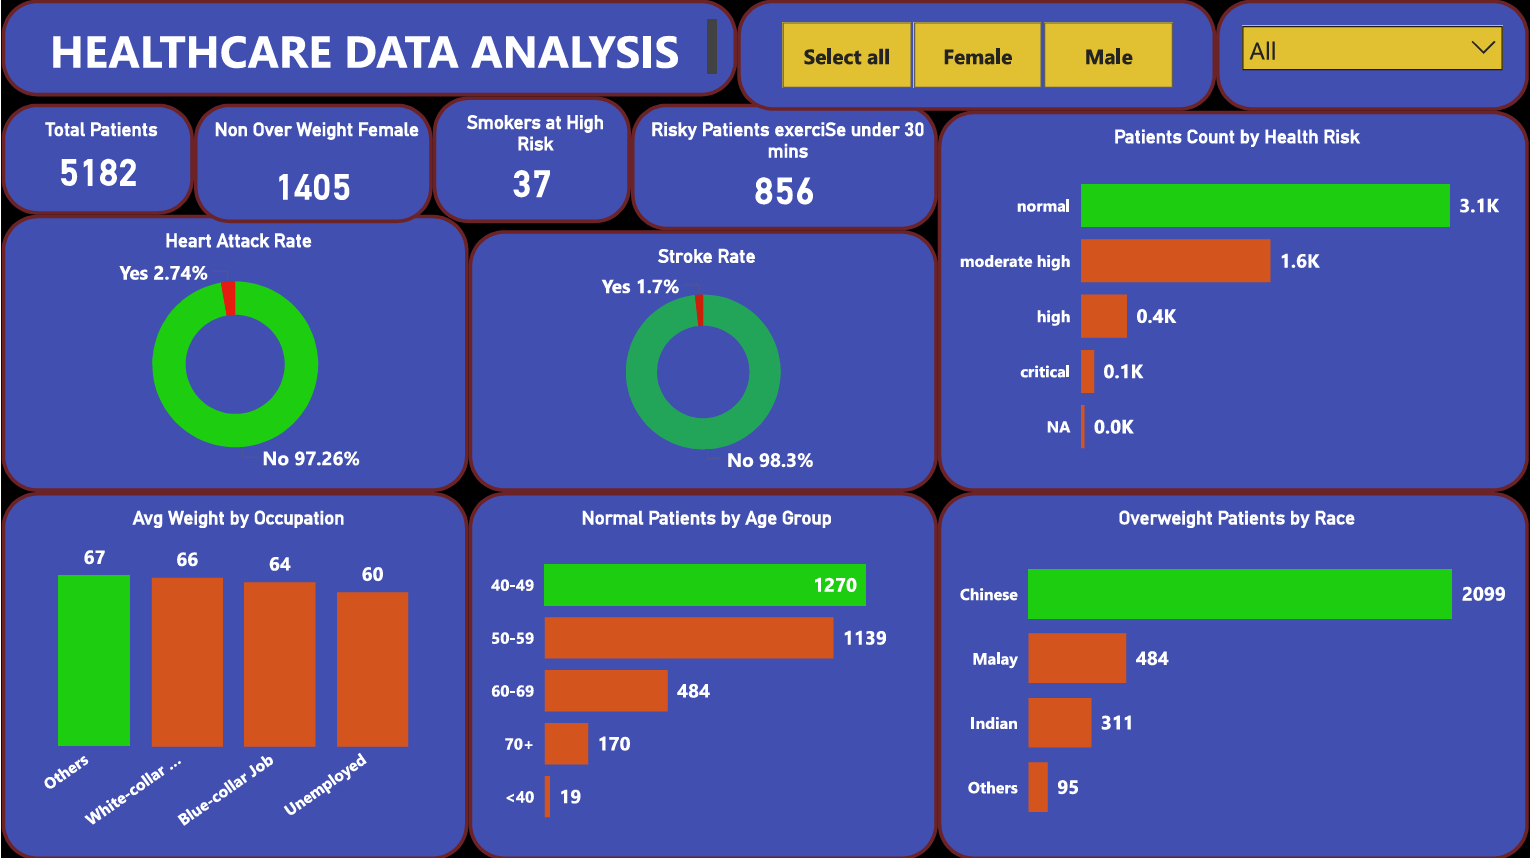

The page's visual inventory and layout, read from the dashboard file:
{"tool":"powerbi","page":{"name":"Page 1","canvas":[1280,720],"ordinal":0},"visuals":[{"type":"card","title":"Total Patients","fields":{"Values":["CountNonNull(Patient_History_data xlsx - Sample_Data.AgeGrp)"]},"box":[0,86.9,160.6,92.6],"z":0},{"type":"donutChart","title":"Heart Attack  Rate","fields":{"Category":["Patient_History_data xlsx - Sample_Data.HeartAttack"],"Y":["CountNonNull(Patient_History_data xlsx - Sample_Data.HeartAttack)"]},"box":[0,179.5,391.2,232.4],"z":1000},{"type":"donutChart","title":"Stroke Rate","fields":{"Y":["CountNonNull(Patient_History_data xlsx - Sample_Data.Stroke)"],"Category":["Patient_History_data xlsx - Sample_Data.Stroke"]},"box":[391.2,192.8,393.1,219.2],"z":2000},{"type":"card","title":"Non Over Weight Female ","fields":{"Values":["CountNonNull(Patient_History_data xlsx - Sample_Data.Overweight)"]},"box":[160.6,86.9,200.3,100.2],"z":3000},{"type":"barChart","title":"Patients Count by  Health Risk ","fields":{"Category":["Patient_History_data xlsx - Sample_Data.healthRisk"],"Y":["CountNonNull(Patient_History_data xlsx - Sample_Data.healthRisk)"]},"box":[784.3,92.6,495.1,319.4],"z":4000},{"type":"columnChart","title":"Avg Weight by Occupation","fields":{"Y":["Avg(Patient_History_data xlsx - Sample_Data.Weight)"],"Category":["Patient_History_data xlsx - Sample_Data.OccupationType"]},"box":[0,412,391.2,308],"z":5000},{"type":"barChart","title":"Overweight Patients by Race","fields":{"Category":["Patient_History_data xlsx - Sample_Data.Race"],"Y":["CountNonNull(Patient_History_data xlsx - Sample_Data.Overweight)"]},"box":[784.3,412,495.1,308],"z":6000},{"type":"barChart","title":"Normal Patients by Age Group","fields":{"Category":["Patient_History_data xlsx - Sample_Data.AgeGrp"],"Y":["CountNonNull(Patient_History_data xlsx - Sample_Data.healthRisk)"]},"box":[391.2,412,393.1,308],"z":7000},{"type":"card","title":"Smokers at High Risk","fields":{"Values":["CountNonNull(Patient_History_data xlsx - Sample_Data.healthRisk)"]},"box":[360.9,81.3,166.3,105.8],"z":8000},{"type":"card","title":"Risky Patients exerciSe under 30 mins","fields":{"Values":["CountNonNull(Patient_History_data xlsx - Sample_Data.healthRisk)"]},"box":[527.2,86.9,257,105.8],"z":9000},{"type":"textbox","box":[0,0,616.1,81.3],"z":10000},{"type":"slicer","fields":{"Values":["Patient_History_data xlsx - Sample_Data.Gender"]},"box":[616.1,0,400.6,92.6],"z":11000},{"type":"slicer","fields":{"Values":["Patient_History_data xlsx - Sample_Data.AgeGrp"]},"box":[1016.7,0,262.7,92.6],"z":12000}]}

Visuals, with their boxes in screenshot pixels (x1, y1, x2, y2), scaled from the page's 1280x720 canvas onto the 1530x858 screenshot:
"Total Patients" card: 0 104 192 214
"Heart Attack  Rate" donutChart: 0 214 468 491
"Stroke Rate" donutChart: 468 230 937 491
"Non Over Weight Female " card: 192 104 431 223
"Patients Count by  Health Risk " barChart: 937 110 1529 491
"Avg Weight by Occupation" columnChart: 0 491 468 857
"Overweight Patients by Race" barChart: 937 491 1529 857
"Normal Patients by Age Group" barChart: 468 491 937 857
"Smokers at High Risk" card: 431 97 630 223
"Risky Patients exerciSe under 30 mins" card: 630 104 937 230
textbox: 0 0 736 97
slicer - Patient_History_data xlsx - Sample_Data.Gender: 736 0 1215 110
slicer - Patient_History_data xlsx - Sample_Data.AgeGrp: 1215 0 1529 110
